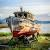fishing boat: (1, 0, 43, 44)
